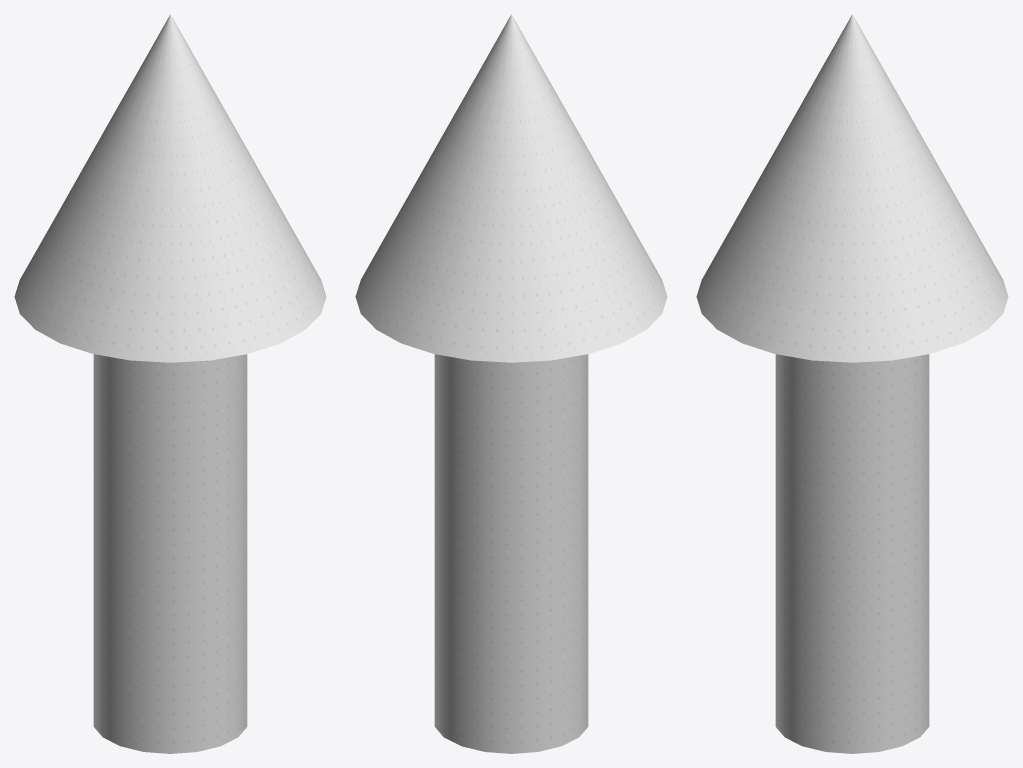
File: NextLvl.obj
The picture shows the model from 3 angles, left to right: view 1: azimuth 30°, elevation 25°; view 2: azimuth 150°, elevation 25°; view 3: azimuth 270°, elevation 25°; orthographic projection.
Parts seen in each view (by area): view 1: Cone01, Cylinder01; view 2: Cone01, Cylinder01; view 3: Cone01, Cylinder01.
Boxes of the visible parts, left/top/right/bottom form: Cone01: left=14, top=14, right=326, bottom=362; Cylinder01: left=93, top=354, right=247, bottom=753; Cone01: left=355, top=14, right=667, bottom=362; Cylinder01: left=434, top=354, right=588, bottom=753; Cone01: left=696, top=14, right=1008, bottom=362; Cylinder01: left=775, top=354, right=929, bottom=753.
Size of the model in its own units: 0.2 by 0.5 by 0.2.
